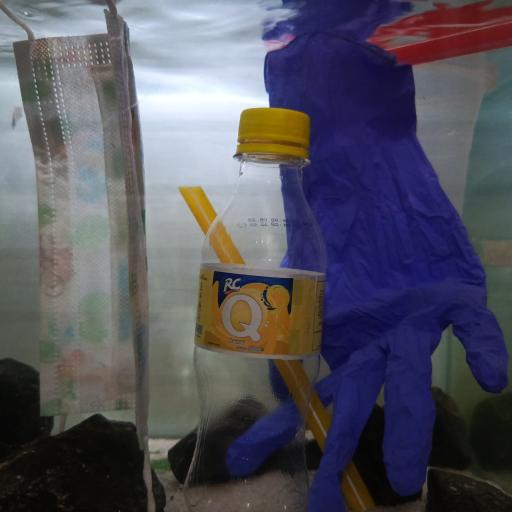bottle_cap: (238, 107, 310, 149)
glove: (223, 30, 512, 512)
mask: (1, 0, 152, 472)
plastic_bottle: (182, 107, 328, 512)
plastic_cup: (409, 62, 497, 218)
plastic_straw: (182, 186, 376, 512), (378, 22, 512, 64)
